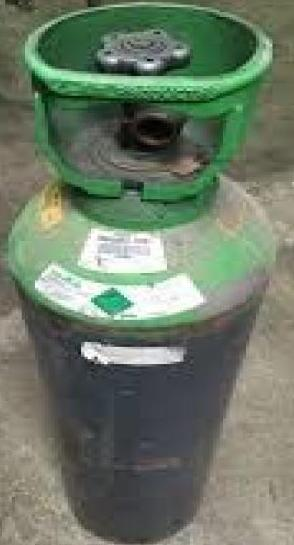cylinder: (1, 0, 294, 545)
